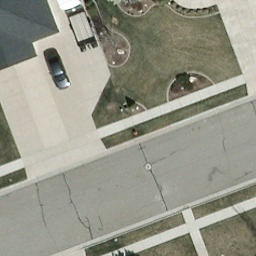car: (46, 56, 70, 92)
